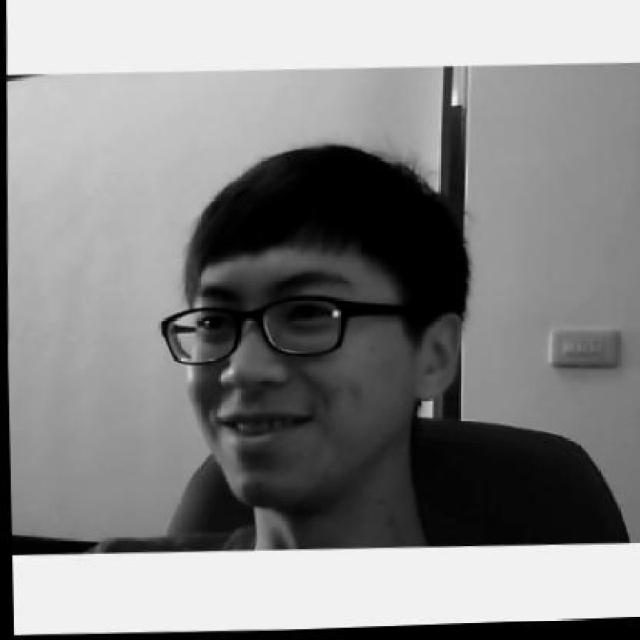attentif: (148, 140, 468, 520)
